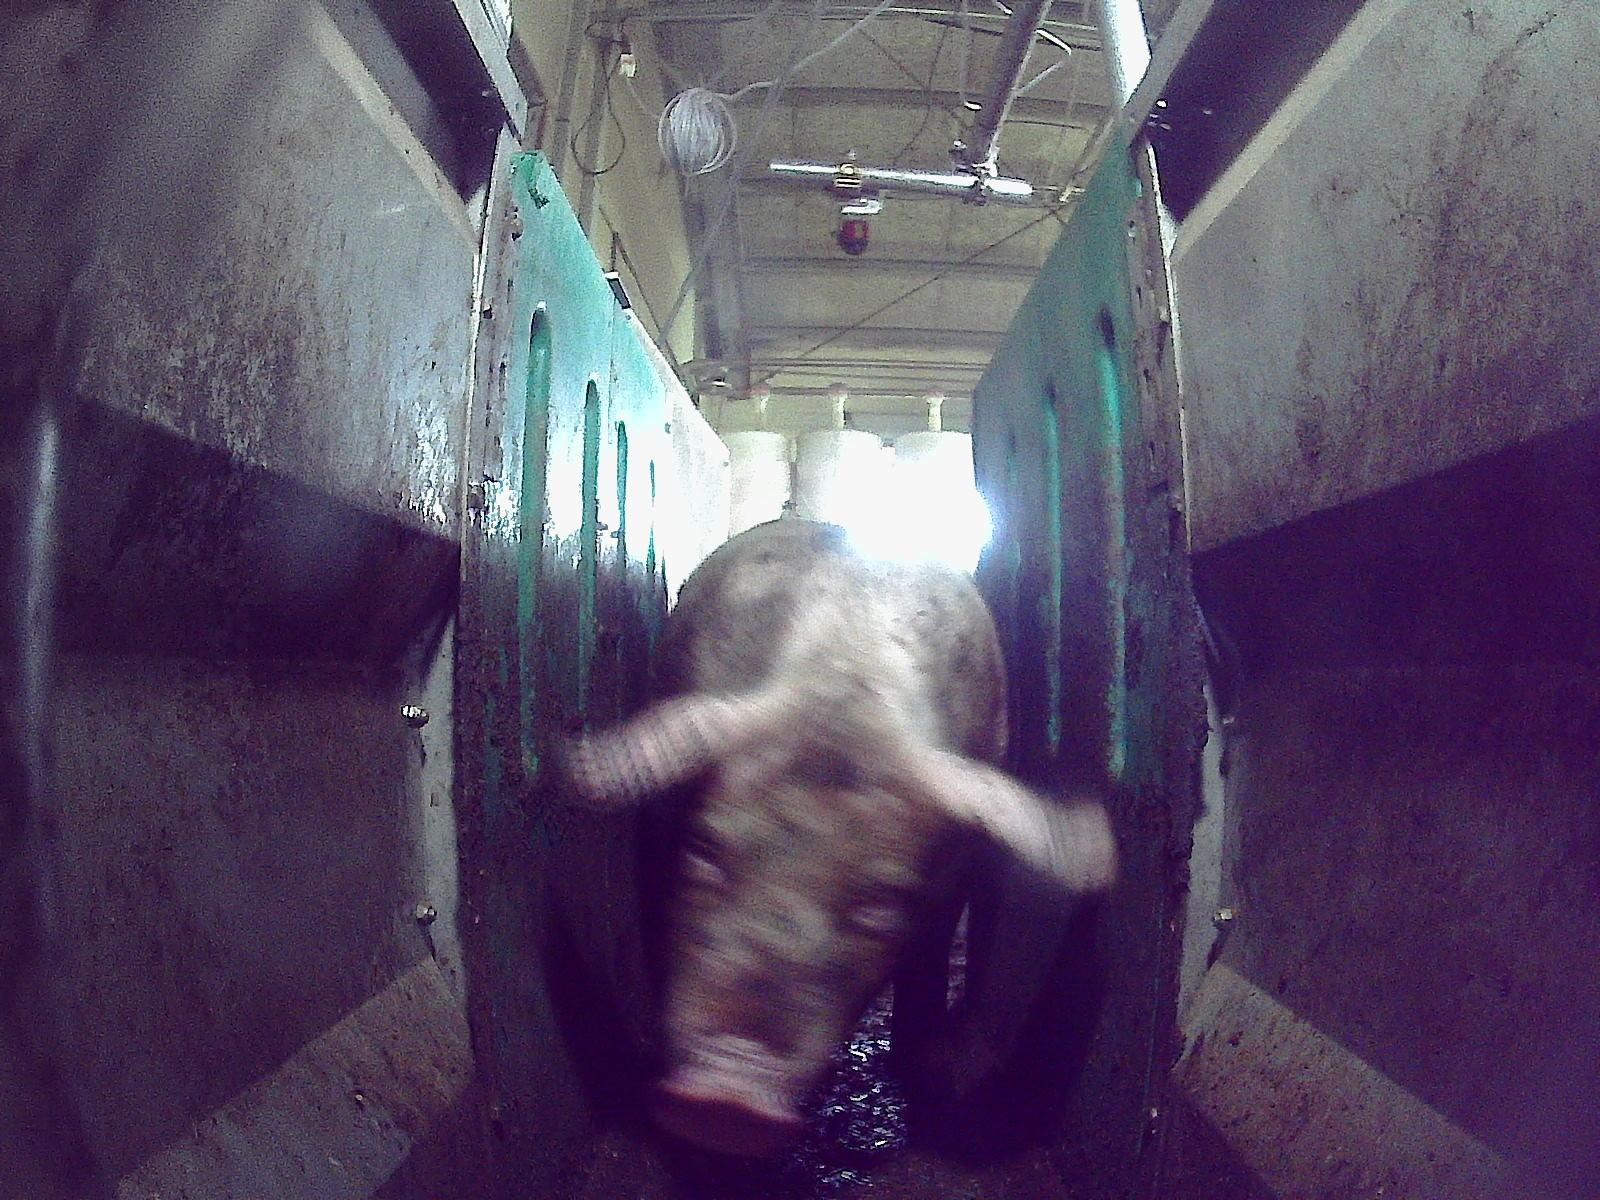Face: (650, 708, 928, 1149)
